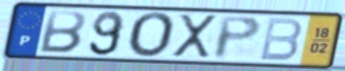9: (86, 9, 127, 58)
B: (36, 8, 89, 55), (257, 16, 304, 63)
O: (126, 10, 178, 60)
P: (212, 15, 264, 61)
X: (171, 12, 220, 59)
